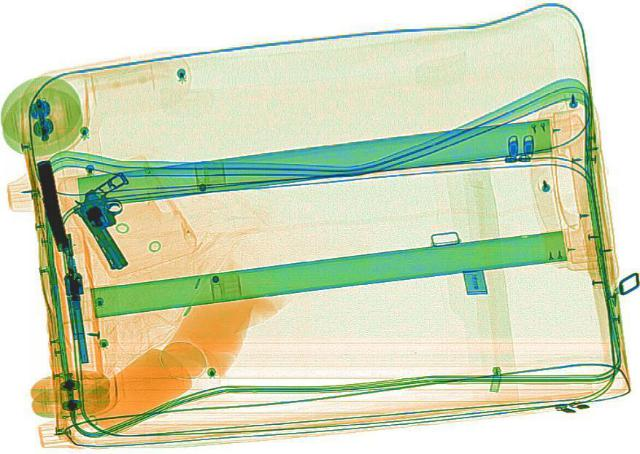Gun: (62, 170, 160, 272), (22, 154, 82, 260), (55, 233, 93, 362)
